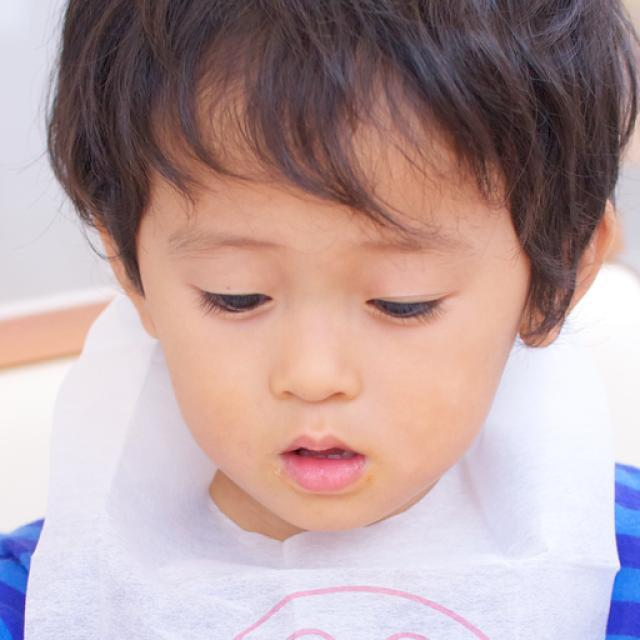sad: (140, 85, 524, 540)
